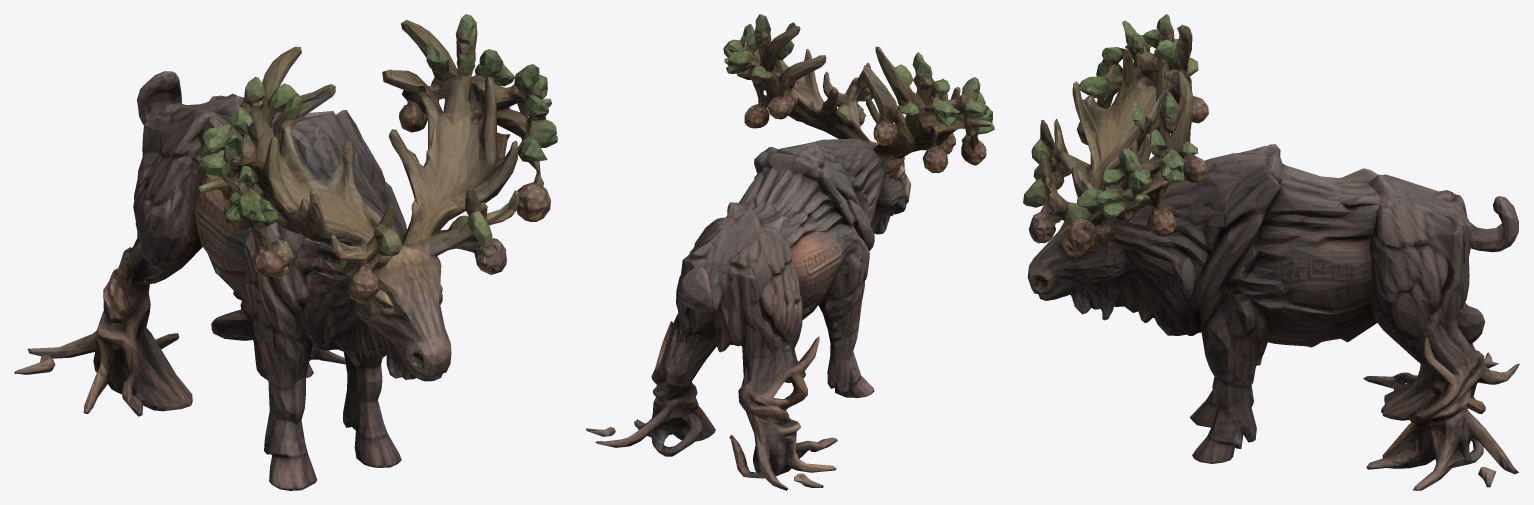
File: bramblehoof__oakhide.glb
3 renders of one model, left to right at view 1: azimuth 30°, elevation 25°; view 2: azimuth 150°, elevation 25°; view 3: azimuth 270°, elevation 25°, orthographic. The views are drawn at different scales.
Parts seen in each view (by area): view 1: world; view 2: world; view 3: world.
Part boxes in pixels (x1,y1,x2,y2): world: (14,14,557,490); world: (586,14,994,490); world: (1023,14,1519,490).
Bounding box in the file's own units: 0.6923 × 0.841 × 0.974.
Materials: 1 (1 with a texture image).
